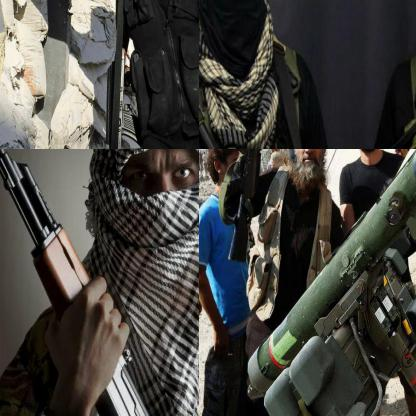rifle: (0, 149, 166, 415), (199, 92, 338, 148), (216, 149, 275, 262), (98, 5, 138, 148)
